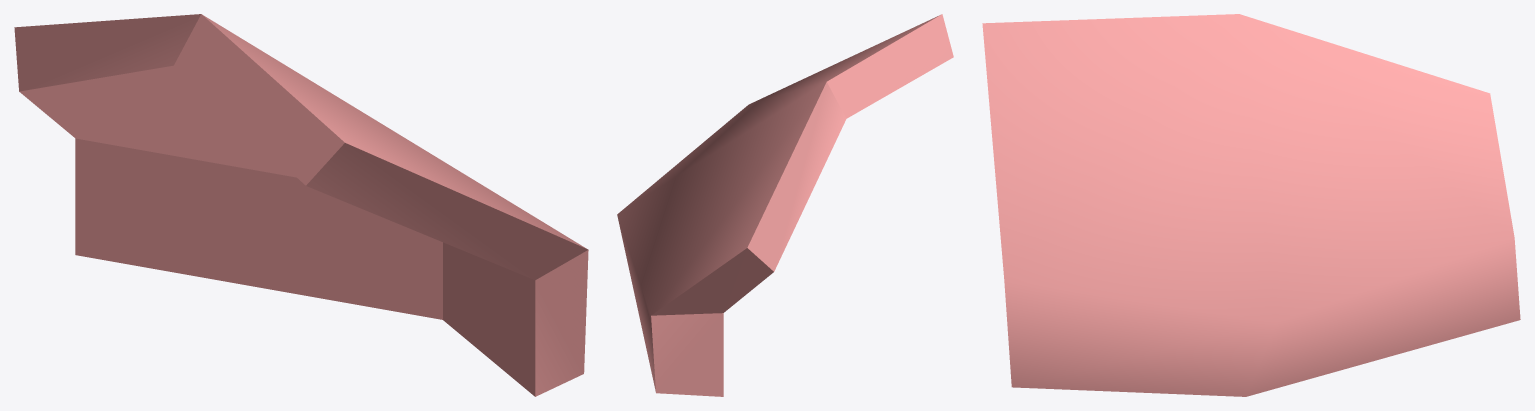
The model's file is PiggyGib.FBX.
3 renders of one model, left to right at view 1: azimuth 30°, elevation 25°; view 2: azimuth 150°, elevation 25°; view 3: azimuth 270°, elevation 25°, orthographic. The views are drawn at different scales.
Visible parts, largest first — view 1: PigGib; view 2: PigGib; view 3: PigGib.
Part boxes in pixels (x1,y1,x2,y2): PigGib: [14, 14, 588, 396]; PigGib: [617, 14, 953, 396]; PigGib: [982, 14, 1520, 396].
Bounding box in the file's own units: 10.18 × 10.27 × 17.37.
Materials: 1 (1 with a texture image).
